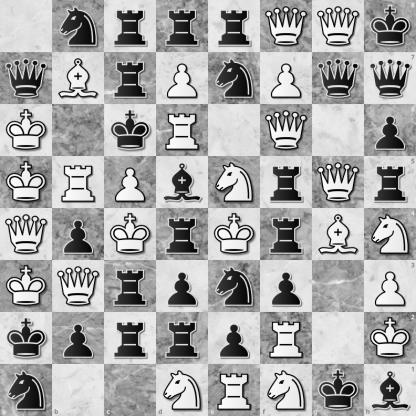B: (53, 53, 104, 104), (313, 209, 364, 260)
K: (364, 312, 416, 364), (1, 105, 52, 156), (1, 157, 52, 208), (1, 261, 52, 312), (105, 209, 156, 260), (209, 209, 260, 260)
N: (156, 364, 209, 416), (260, 364, 312, 416), (364, 209, 416, 260), (209, 157, 260, 208)
P: (364, 260, 416, 312), (105, 157, 156, 208), (157, 53, 208, 104), (261, 53, 312, 104)
Q: (1, 209, 52, 260), (53, 261, 104, 312), (261, 1, 312, 52), (261, 105, 312, 156), (313, 1, 364, 52), (313, 157, 364, 208)
R: (209, 364, 260, 416), (53, 157, 104, 208), (157, 105, 208, 156), (261, 313, 312, 364)
b: (364, 364, 416, 416), (157, 157, 208, 208)
board: (0, 0, 415, 415)
k: (312, 364, 364, 416), (364, 0, 416, 52), (1, 313, 52, 364), (105, 105, 156, 156)
n: (0, 364, 52, 416), (53, 1, 104, 52), (209, 53, 260, 104), (209, 261, 260, 312)
p: (364, 104, 416, 156), (53, 209, 104, 260), (53, 313, 104, 364), (157, 261, 208, 312), (209, 313, 260, 364), (261, 261, 312, 312)
q: (364, 52, 416, 104), (1, 53, 52, 104), (313, 53, 364, 104)
r: (364, 156, 416, 209), (105, 1, 156, 52), (105, 53, 156, 104), (105, 261, 156, 312), (105, 313, 156, 364), (157, 1, 208, 52), (157, 209, 208, 260), (157, 313, 208, 364), (209, 1, 260, 52), (261, 157, 312, 208), (261, 209, 312, 260)
